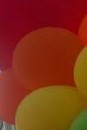Balloon: (14, 27, 76, 87), (14, 87, 87, 130)
